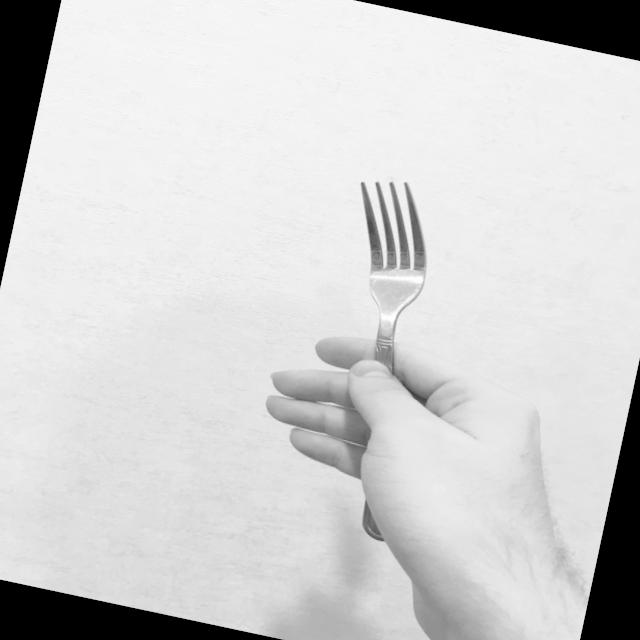fork: (282, 170, 460, 542)
